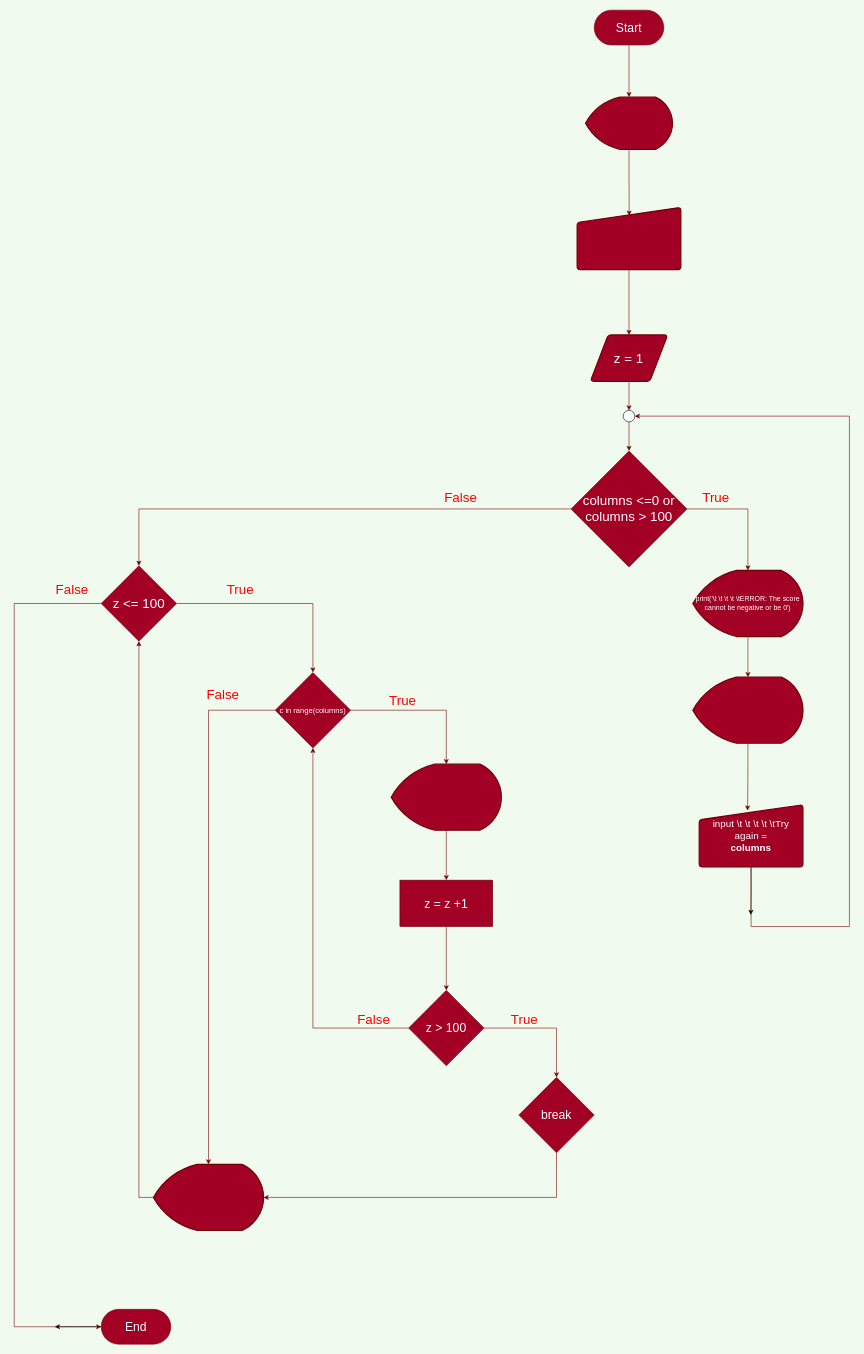
The diagram is 864 pixels wide and 1354 high, and some of its shapes have lost their labels. The shapes that lost their labels are listed below. From the top down, each one's centre as x and y in pixels, then its label:
pixel 629 123: print('\t \t \t \t \t1-100')
pixel 628 238: input \t \t \t \t \tHow many columns ? = columns
pixel 747 710: print('\t \t \t \t \tor greater than 100')
pixel 446 797: print(z,end ='\t')
pixel 208 1197: print('')
